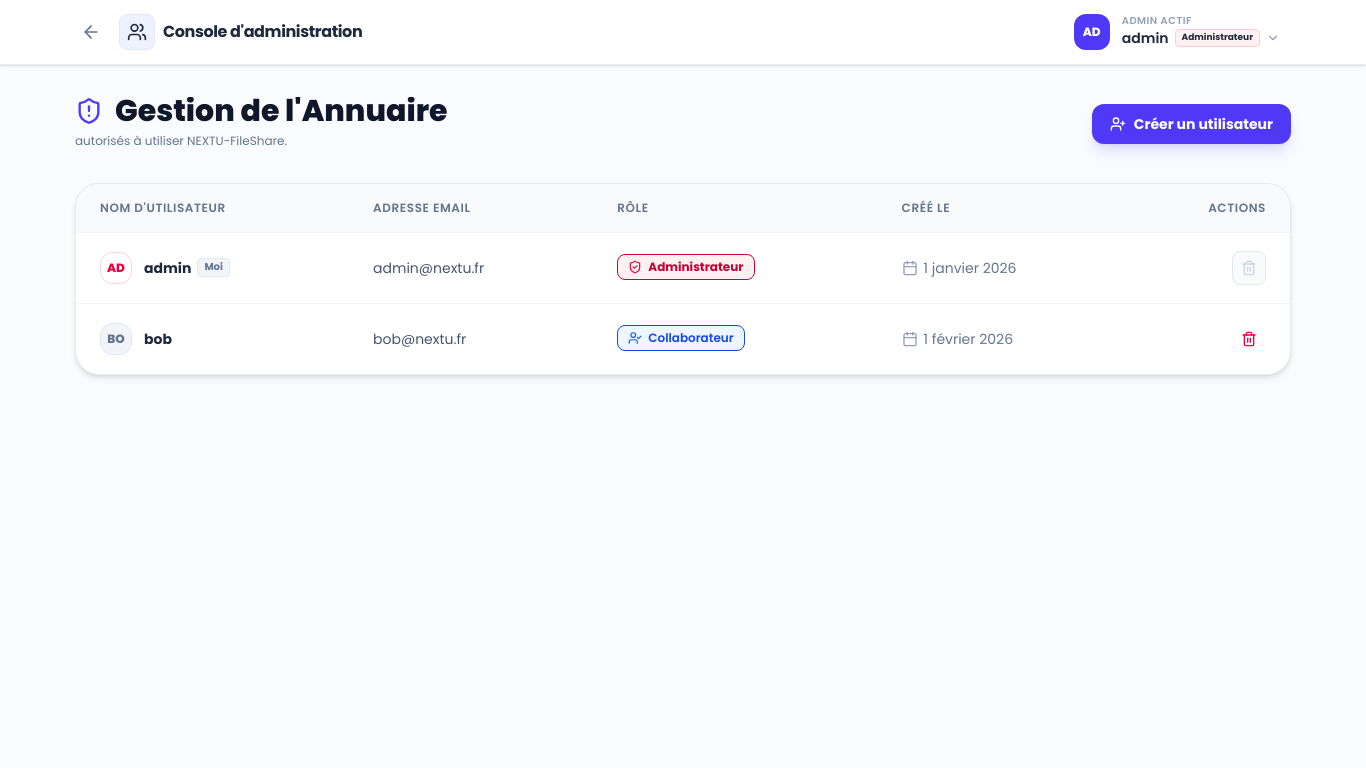
Test: AdminUsers › validates create user form
This screenshot has width=1366, height=768.
Expected: the text "bob" is shown, top-left (144, 328), bottom-right (172, 348)
Click the button "Créer un utilisateur" at (1191, 124), box top-left (1092, 104), bottom-right (1291, 144)
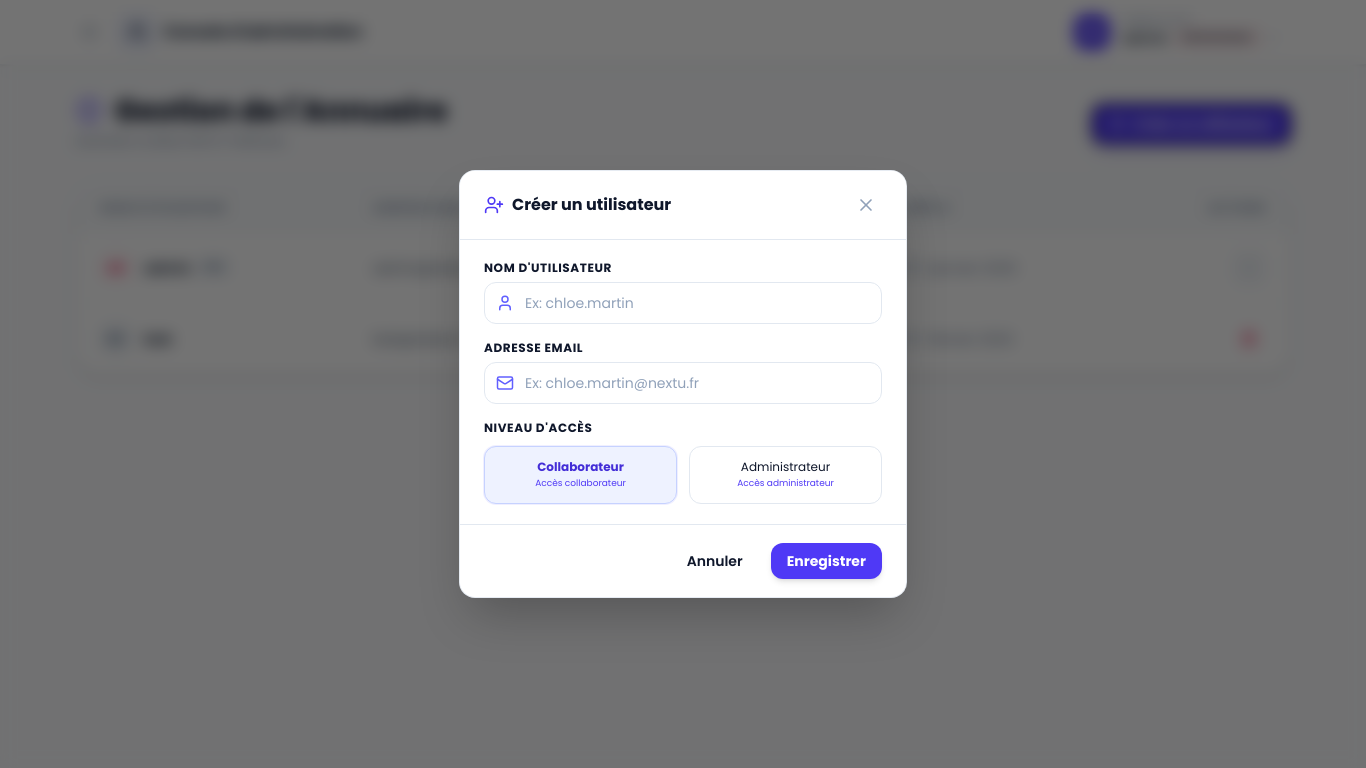
Click the button "Enregistrer" at (826, 561), box top-left (771, 543), bottom-right (882, 579)
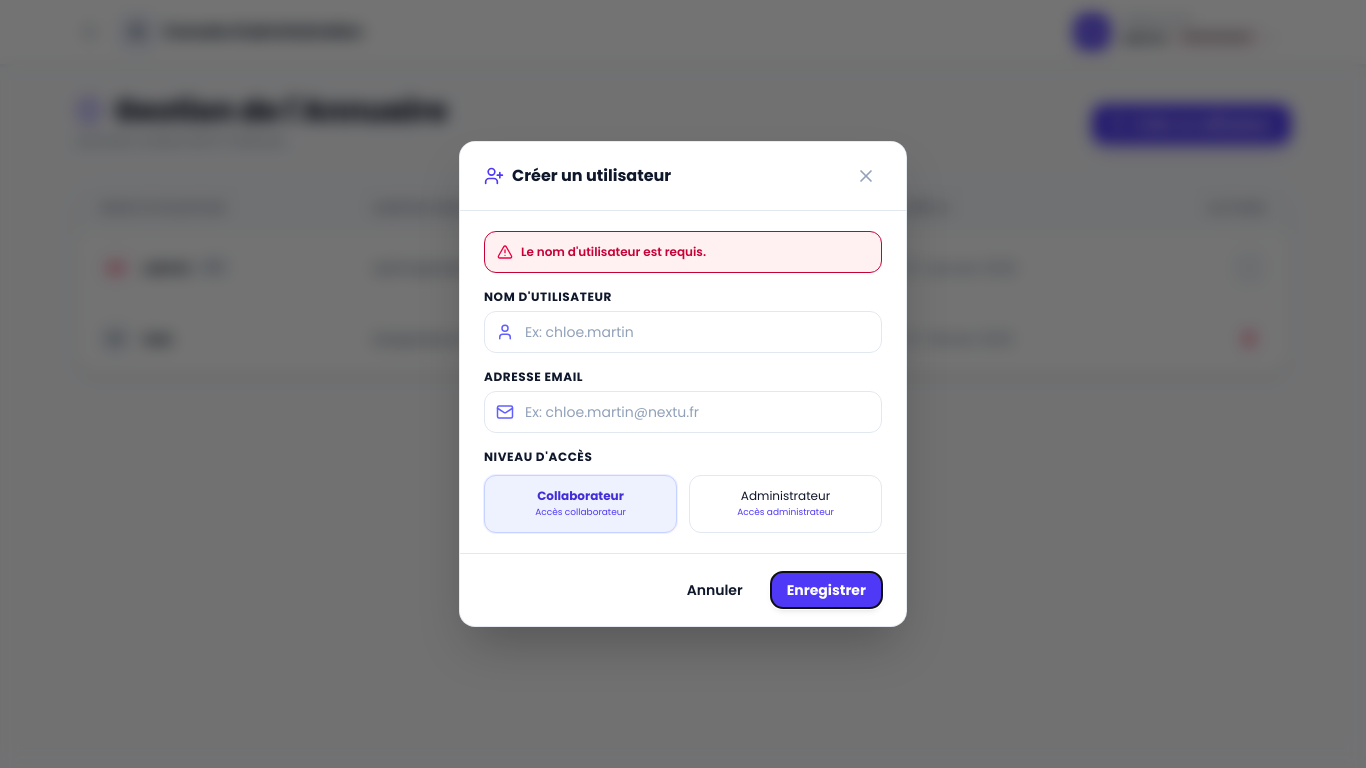
Expected: the text "Le nom d'utilisateur est requis." is shown, top-left (521, 244), bottom-right (706, 260)
